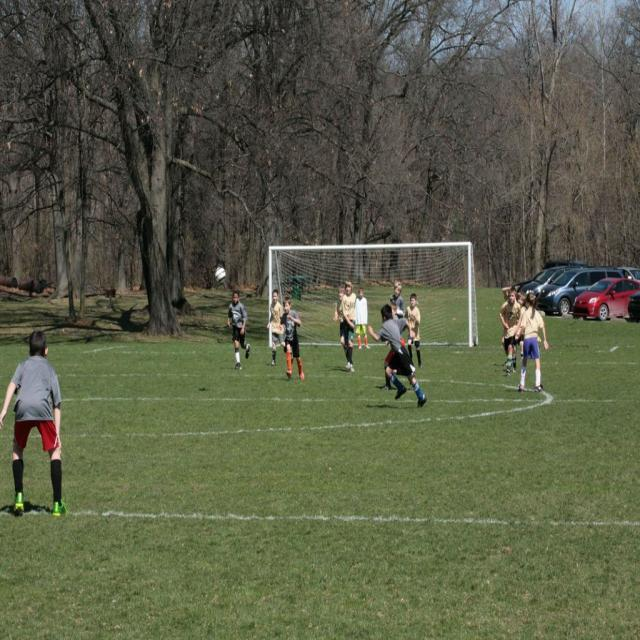football: (208, 264, 237, 289)
